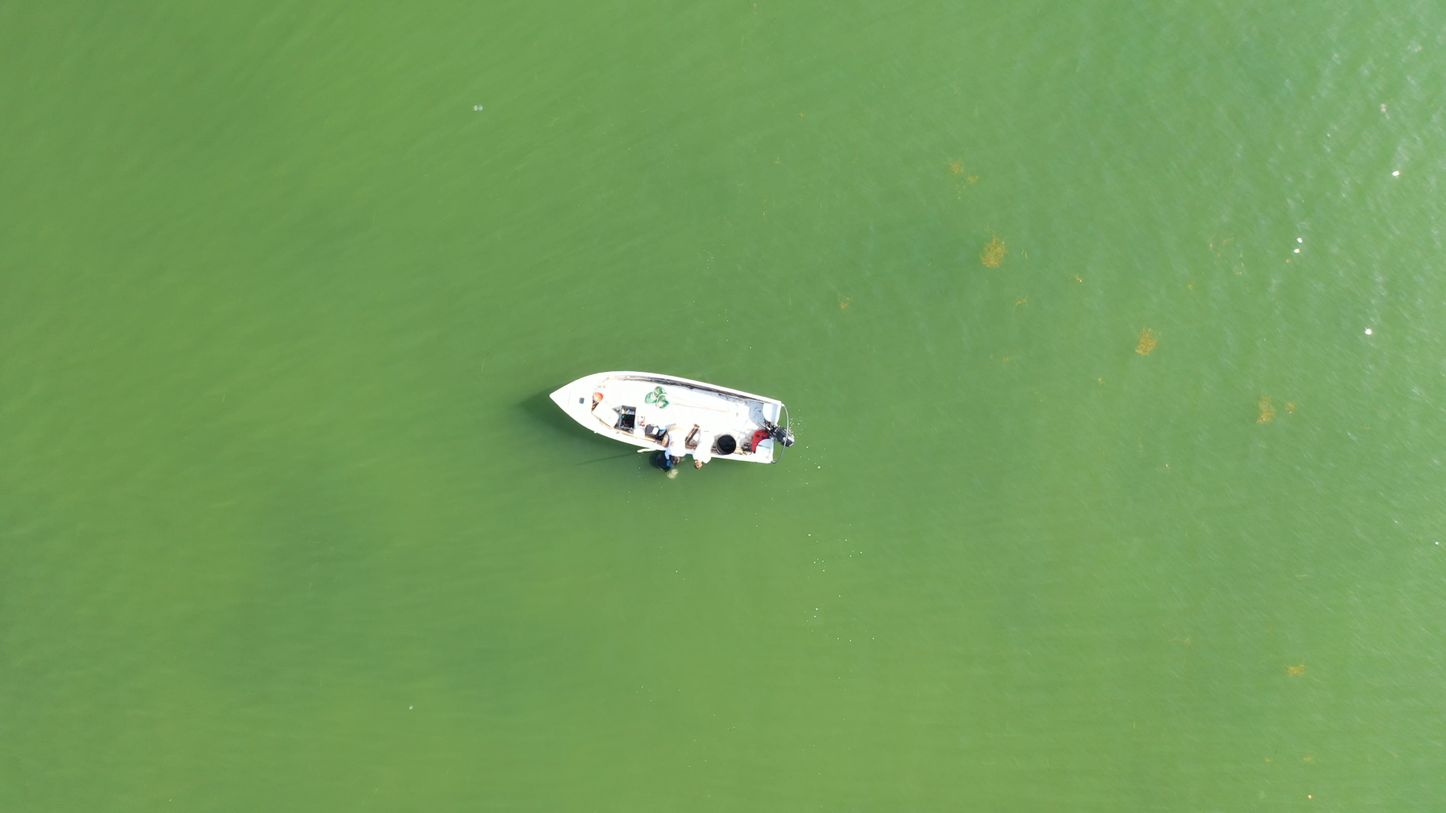meduse: (475, 103, 483, 113), (409, 705, 415, 711)
